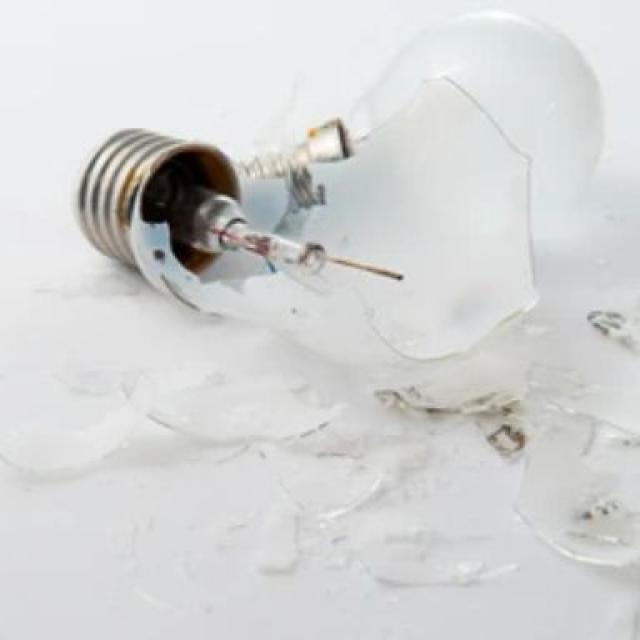electronic: (73, 8, 605, 366)
